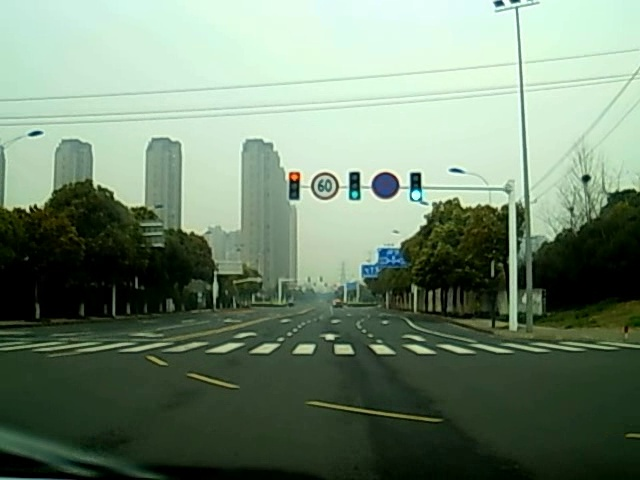Traffic_Light_go: (411, 174, 422, 204), (348, 172, 359, 201)
Traffic_Light_stop: (288, 173, 300, 202)
